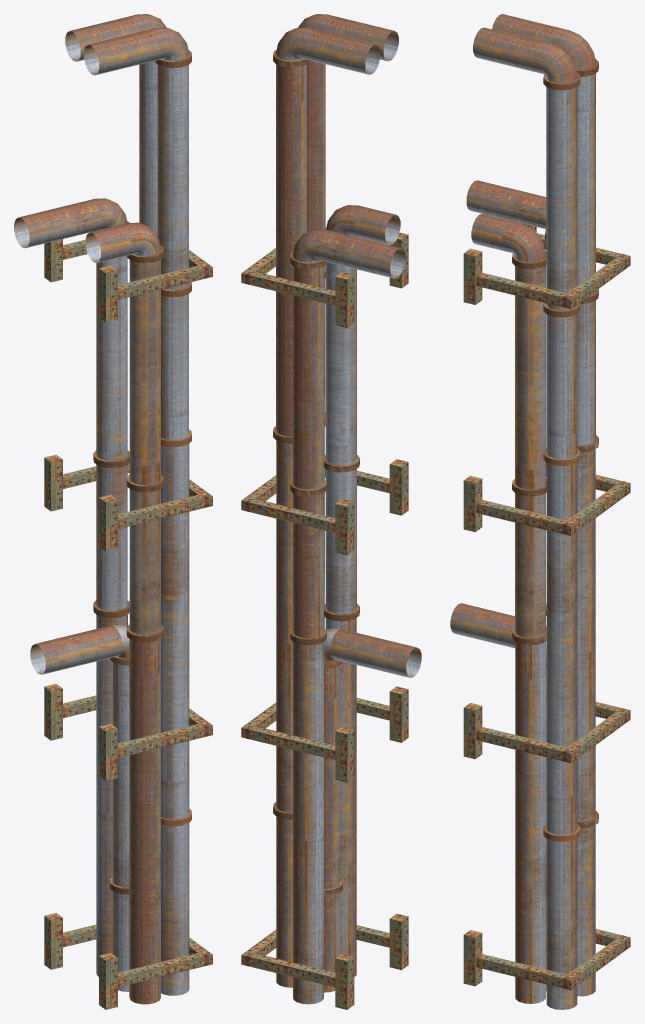
Rendered from pipes_03.fbx.
3 views of the same model, side by side, from view 1: azimuth 30°, elevation 25°; view 2: azimuth 150°, elevation 25°; view 3: azimuth 330°, elevation 25° (orthographic).
Parts seen in each view (by area): view 1: pipes_03; view 2: pipes_03; view 3: pipes_03.
Part boxes in pixels (x1,y1,x2,y2): pipes_03: (14,14,212,1009); pipes_03: (241,14,421,1009); pipes_03: (450,14,630,1009).
Bounding box in the file's own units: 1.32 × 8.41 × 0.9762.
